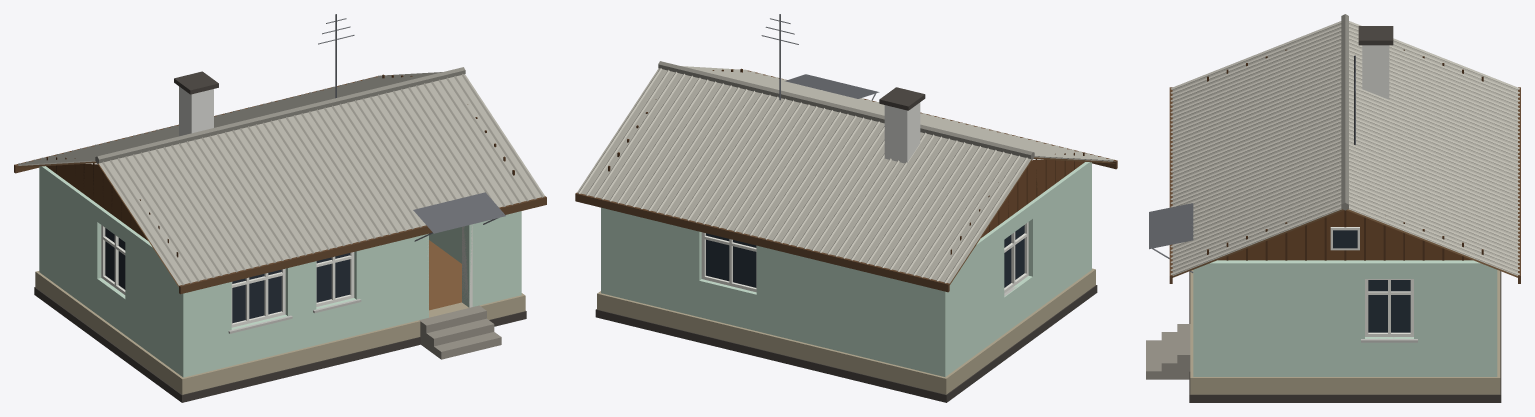
The model's file is KG_House_Mint.obj.
The picture shows the model from 3 angles, left to right: view 1: azimuth 30°, elevation 25°; view 2: azimuth 150°, elevation 25°; view 3: azimuth 270°, elevation 25°; orthographic projection. The views are drawn at different scales.
Visible parts, largest first — view 1: KG_House_Mint; view 2: KG_House_Mint; view 3: KG_House_Mint.
Part boxes in pixels (box(x1,y1,x2,y2)): KG_House_Mint: box(14, 14, 546, 402); KG_House_Mint: box(575, 14, 1117, 402); KG_House_Mint: box(1146, 14, 1520, 402).
Size of the model in its own units: 9.1 by 6.51 by 7.64.
